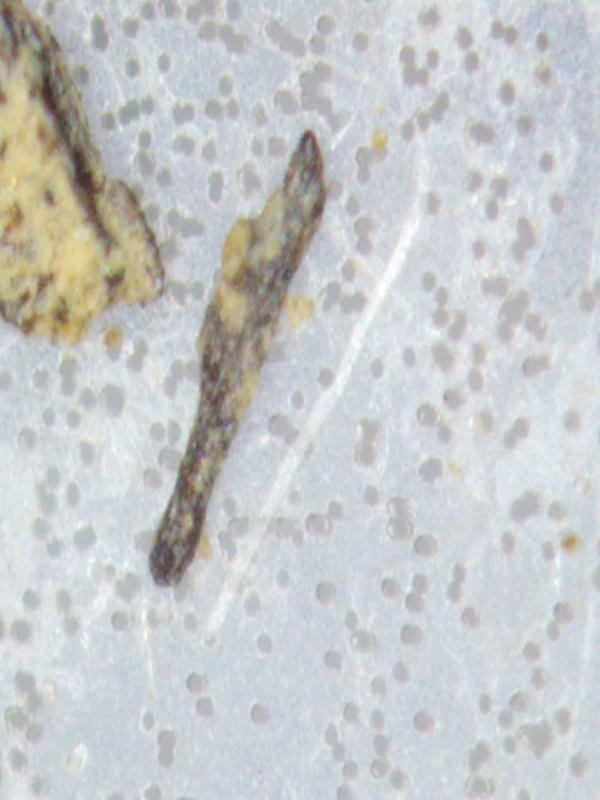microplastic: (147, 127, 328, 588), (0, 0, 166, 346)
